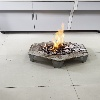fire: (44, 22, 69, 54)
